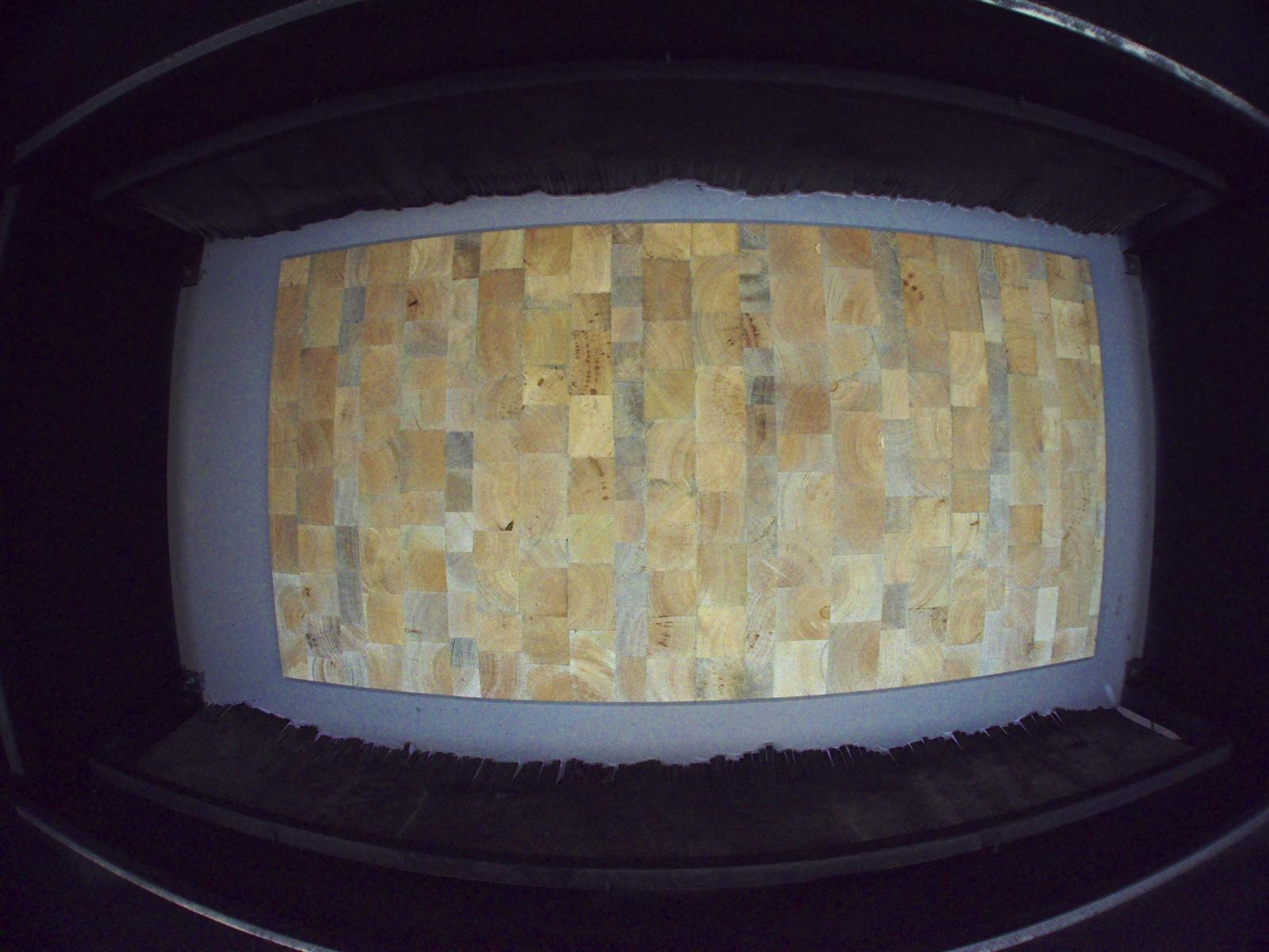sheck_ecuatoriano: (406, 288, 419, 321), (968, 512, 981, 542)
